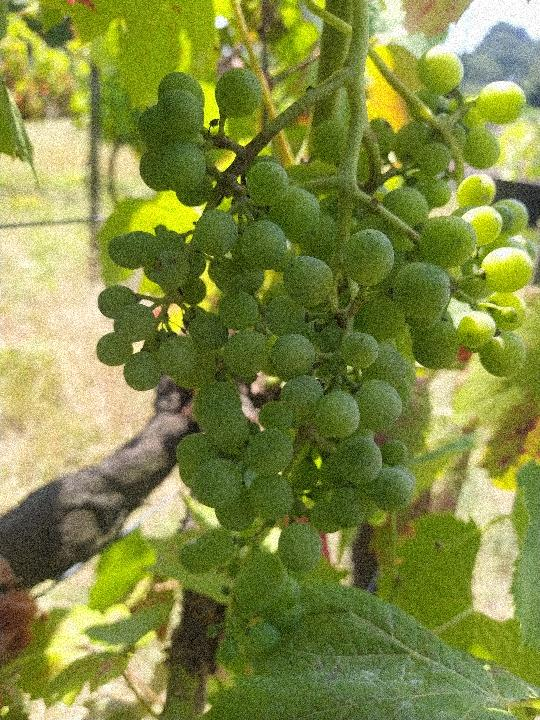grape: (92, 41, 536, 673)
